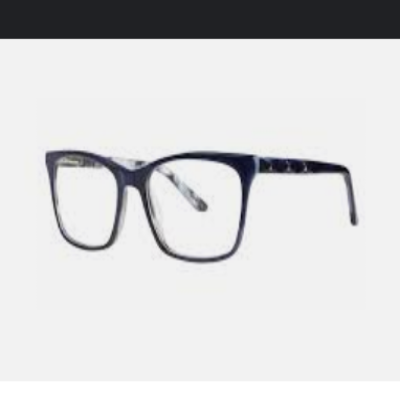glasses: (34, 144, 378, 274)
